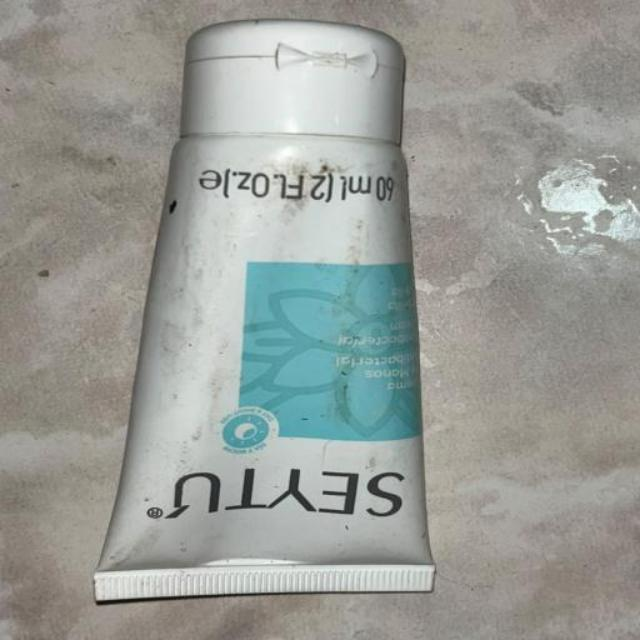HDPE: (86, 21, 535, 620)
